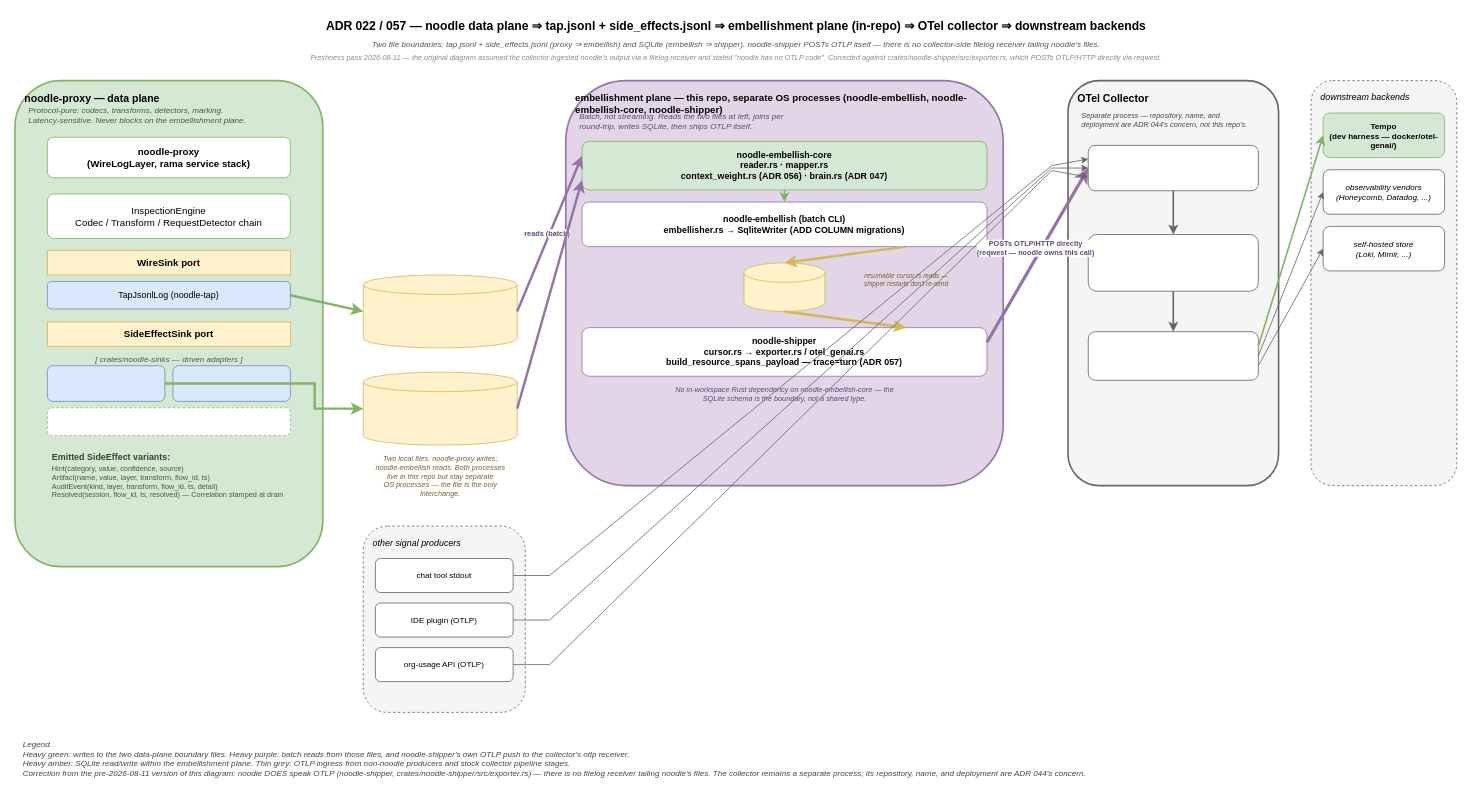
Some shapes in this 1471 by 803 pixel diagram are drawn without their labels. The shapes that lost their labels are listed below. From the top down, each one's centre as x and y in pixels, then its label:
At [1172,168]: "otlp receiver".
At [1172,262]: "processors batch · attributes · filter · transform (stock OTel processors)".
At [784,286]: "SQLite ai_telemetry v0.0.2".
At [439,311]: "tap.jsonl (envelope + decoded layer + marks block)".
At [1172,355]: "exporters".
At [106,383]: "SideEffectsJsonlSink".
At [231,383]: "TracingSink · RoundTripSink".
At [168,421]: "MultiSideEffectSink (fan-out composite) · InMemorySink (tests)".
At [439,408]: "side_effects.jsonl (Hint / Artifact / Audit / Resolved)".
